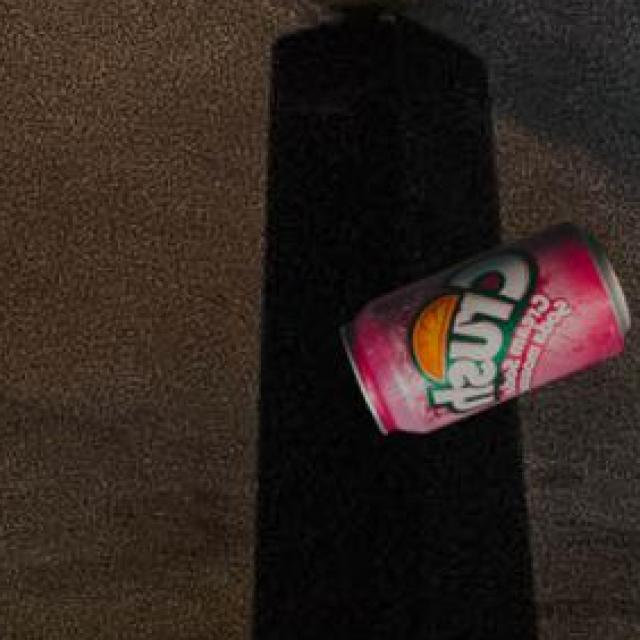logam: (337, 226, 625, 437)
